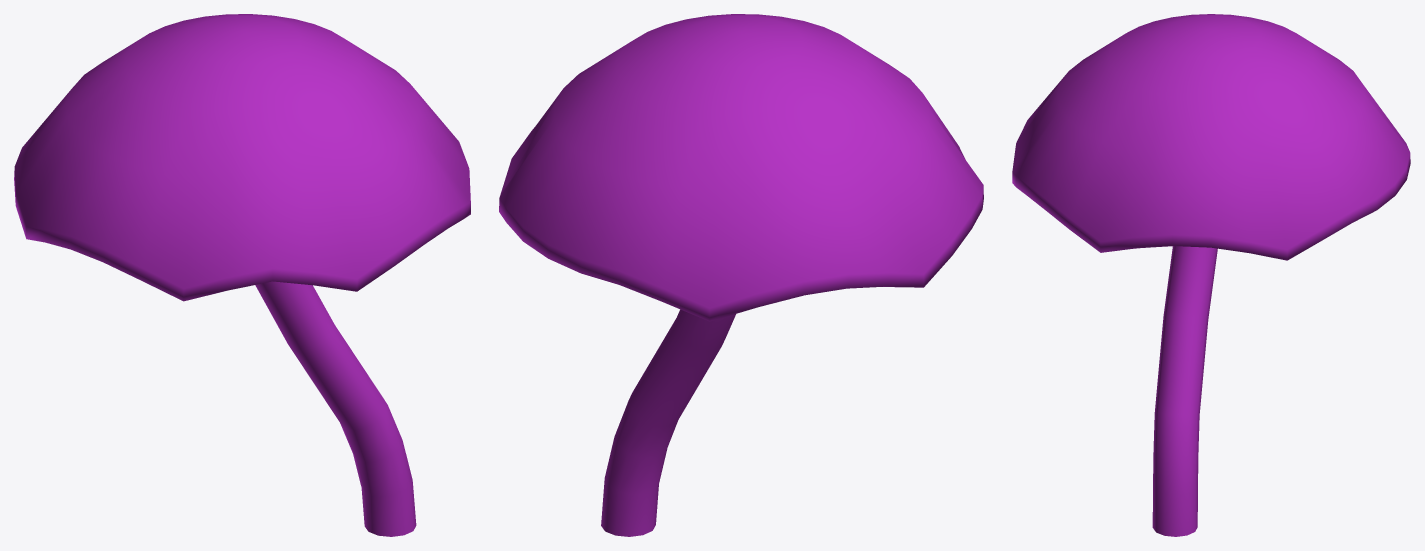
Rendered from Mushroom_1.glb.
The picture shows the model from 3 angles, left to right: view 1: azimuth 30°, elevation 25°; view 2: azimuth 150°, elevation 25°; view 3: azimuth 270°, elevation 25°; orthographic projection. The views are drawn at different scales.
Parts seen in each view (by area): view 1: Mushroom1.001; view 2: Mushroom1.001; view 3: Mushroom1.001.
Boxes of the visible parts, bbox=[...] form: Mushroom1.001: bbox=[14, 14, 470, 536]; Mushroom1.001: bbox=[499, 14, 983, 536]; Mushroom1.001: bbox=[1012, 14, 1410, 536].
Size of the model in its own units: 4.25 by 5.22 by 4.25.
